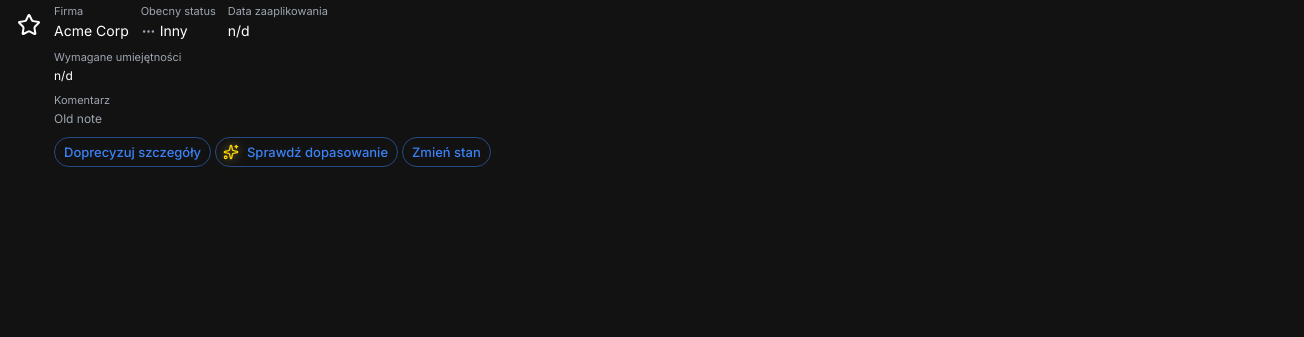
Scenario: ApplicationStatusEditor › allows comment-only editing and unarchive options for archived ads
Step 1. Click the button "Zmień stan" → {"x": 446, "y": 152}, box 402,137 -> 491,167
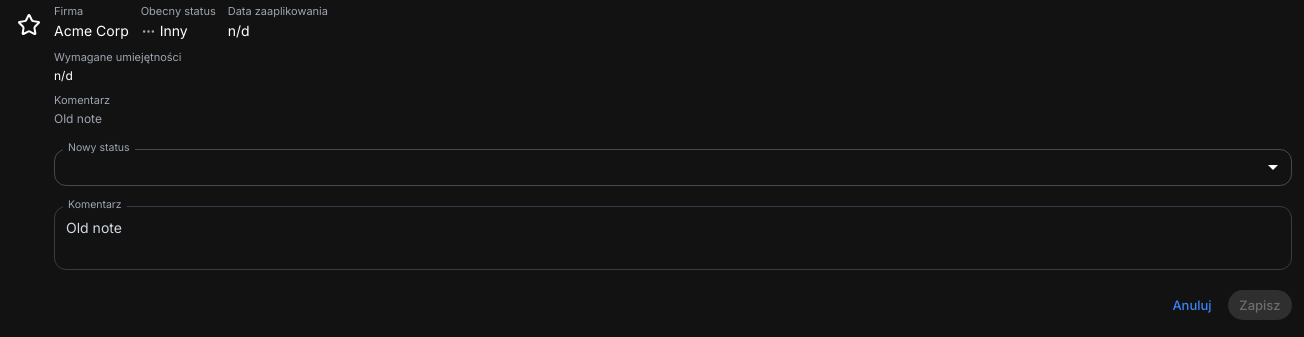
Expected: the dropdown named "Nowy status" is shown, 54,149 -> 1292,186
Expected: the text box labelled "Komentarz" holds "Old note", 66,218 -> 1280,258
